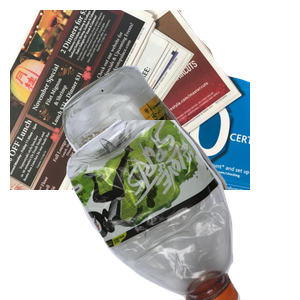glass: (60, 63, 300, 243)
paper: (10, 10, 250, 190)
plastic: (64, 120, 300, 300)
trash: (96, 145, 295, 300)
